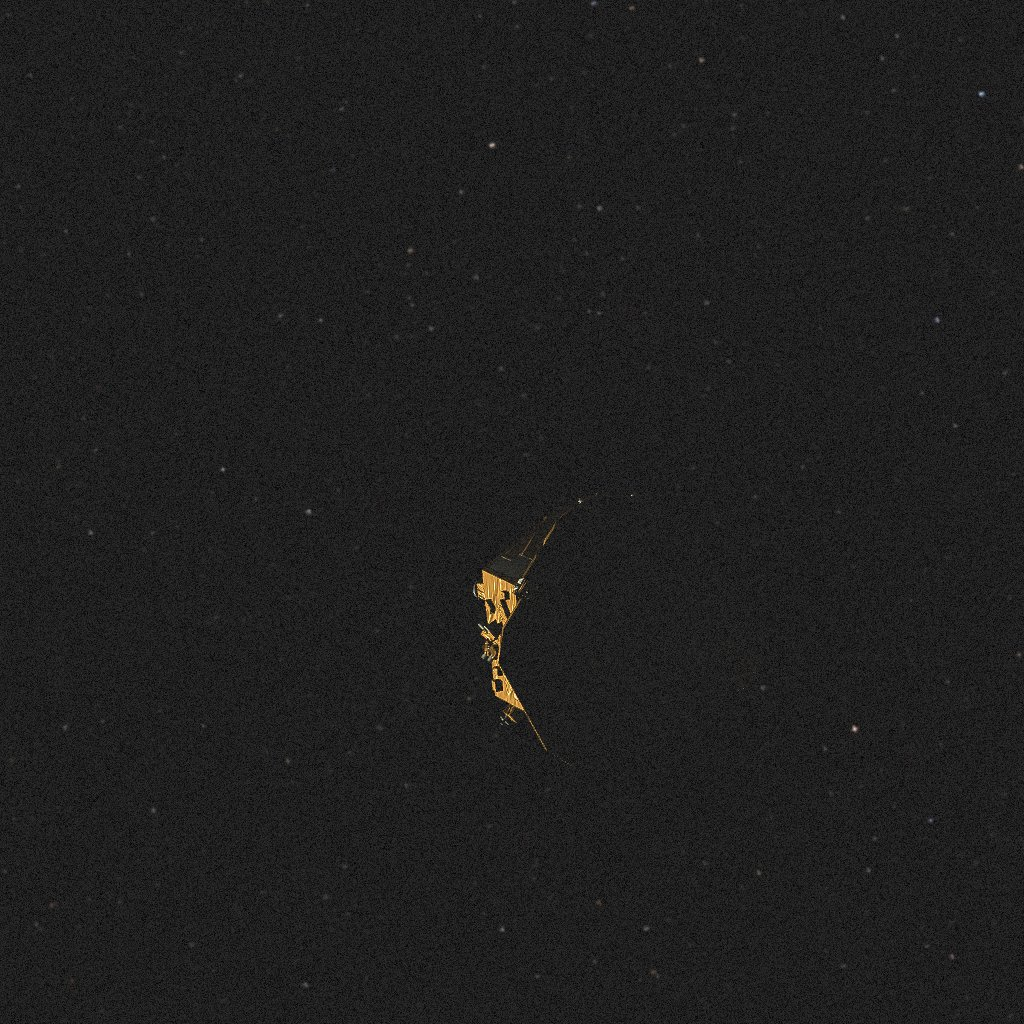lisa_pathfinder: (474, 492, 763, 778)
